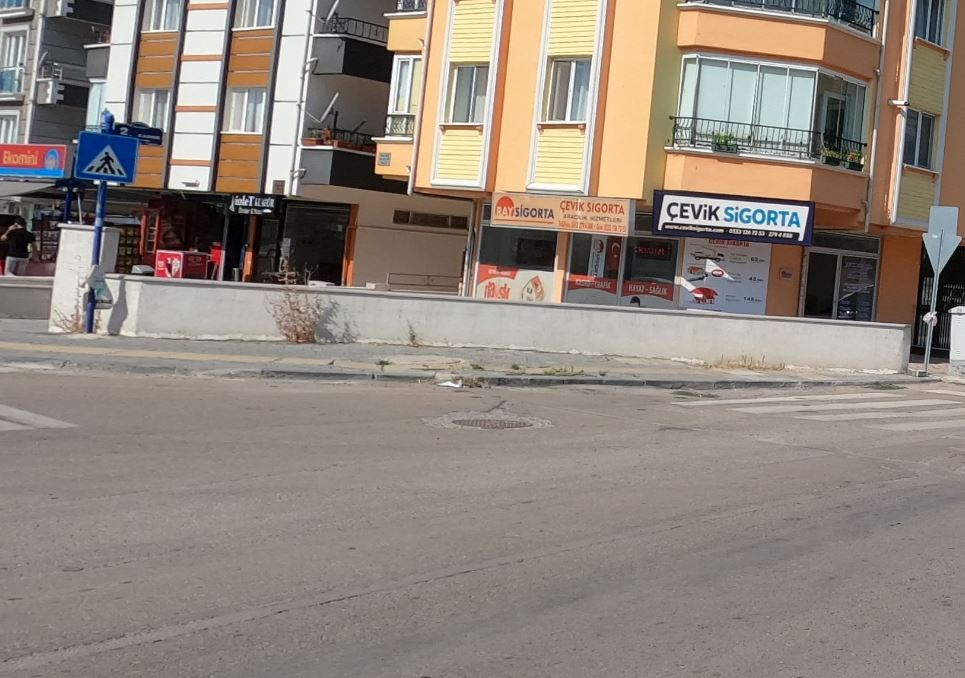Yaya Gecidi: (78, 132, 138, 182)
